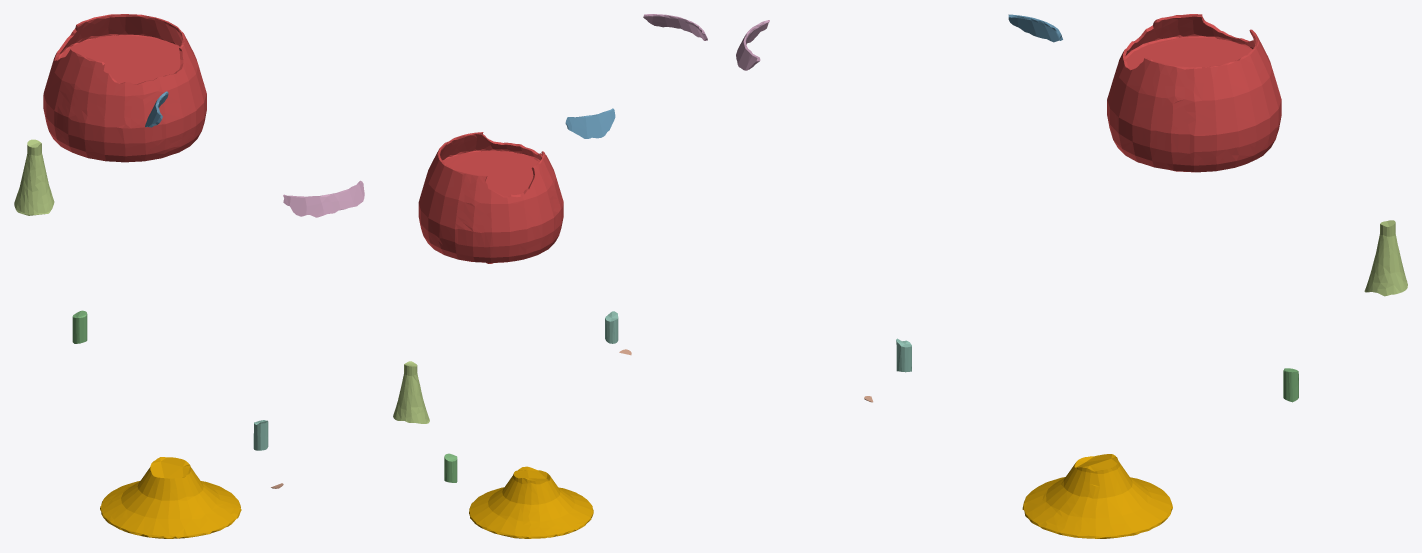
Rendered from mode_17_8pcs_transformed.glb.
3 views of the same model, side by side, from view 1: azimuth 30°, elevation 25°; view 2: azimuth 150°, elevation 25°; view 3: azimuth 270°, elevation 25° (orthographic). The views are drawn at different scales.
Visible parts, largest first — view 1: piece_1.obj, piece_0.obj, piece_5.obj, piece_6.obj, piece_3.obj, piece_4.obj; view 2: piece_1.obj, piece_0.obj, piece_5.obj, piece_2.obj, piece_6.obj, piece_4.obj, piece_3.obj; view 3: piece_1.obj, piece_0.obj, piece_5.obj, piece_2.obj.
Boxes of the visible parts, x1,y1,x2,y2 form: piece_1.obj: (43, 14, 206, 162); piece_0.obj: (100, 457, 241, 538); piece_5.obj: (14, 139, 54, 215); piece_6.obj: (283, 180, 364, 217); piece_3.obj: (72, 310, 87, 343); piece_4.obj: (253, 420, 268, 450); piece_1.obj: (418, 132, 563, 263); piece_0.obj: (469, 466, 593, 538); piece_5.obj: (393, 361, 429, 423); piece_2.obj: (565, 108, 615, 138); piece_6.obj: (643, 14, 707, 40); piece_4.obj: (605, 311, 618, 343); piece_3.obj: (444, 453, 457, 482); piece_1.obj: (1107, 14, 1281, 172); piece_0.obj: (1022, 454, 1172, 538); piece_5.obj: (1364, 220, 1407, 296); piece_2.obj: (1008, 14, 1062, 42).
Size of the model in its own units: 0.5418 by 1.6 by 2.08.
